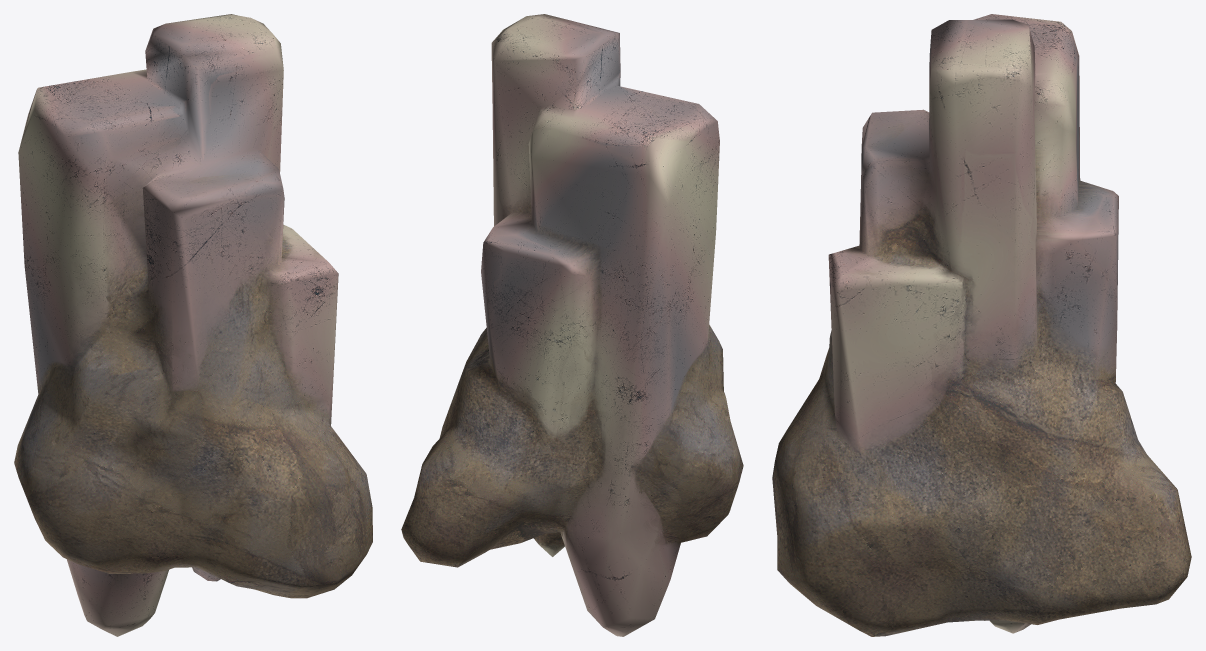
File: SM_Mineral_3.fbx
The picture shows the model from 3 angles, left to right: view 1: azimuth 30°, elevation 25°; view 2: azimuth 150°, elevation 25°; view 3: azimuth 270°, elevation 25°; orthographic projection. The views are drawn at different scales.
Visible parts, largest first — view 1: SM_Mineral_3; view 2: SM_Mineral_3; view 3: SM_Mineral_3.
Part boxes in pixels (x1,y1,x2,y2): SM_Mineral_3: (14, 14, 372, 636); SM_Mineral_3: (401, 14, 743, 636); SM_Mineral_3: (772, 14, 1191, 636).
Size of the model in its own units: 0.6861 by 1.41 by 0.8485.
